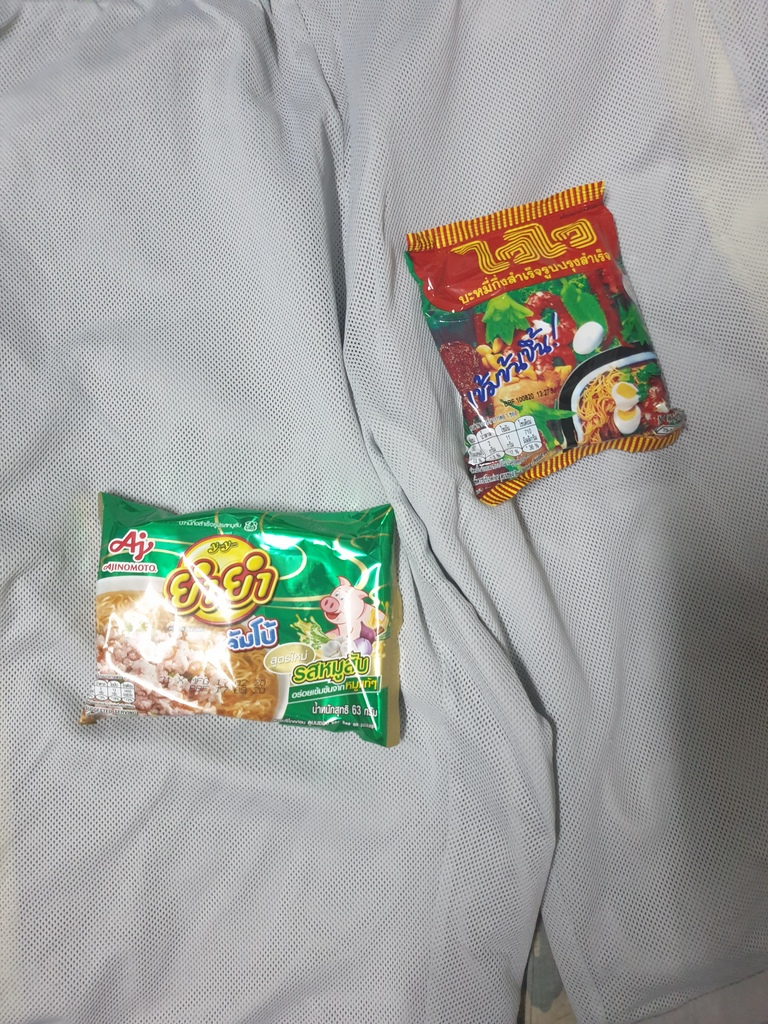waiwai: (396, 204, 703, 462)
yumyum: (89, 493, 400, 745)
